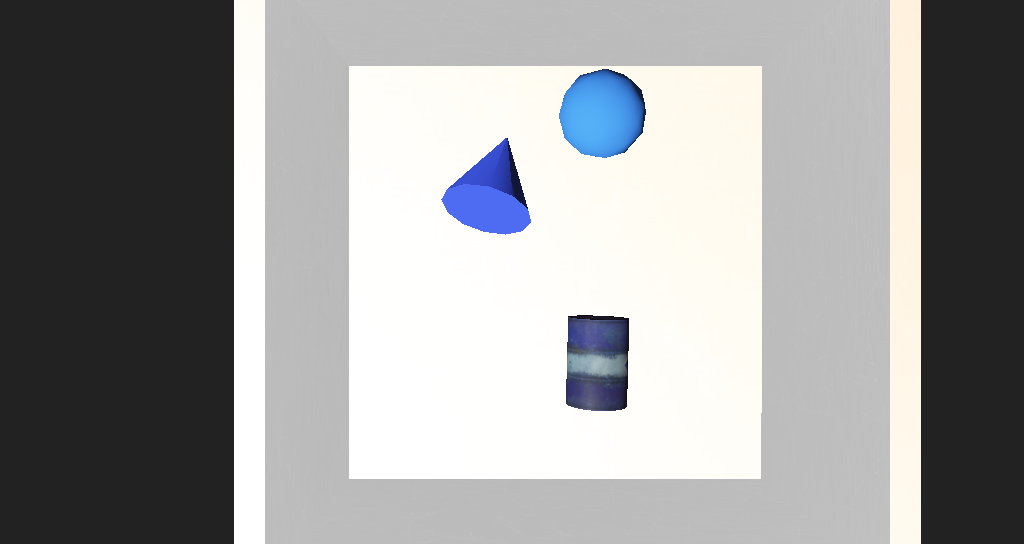cone: (515, 291, 563, 339)
cylinder: (418, 177, 499, 253)
sphere: (509, 169, 569, 212)
